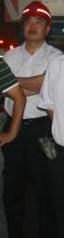hard-hat: (0, 1, 26, 40)
